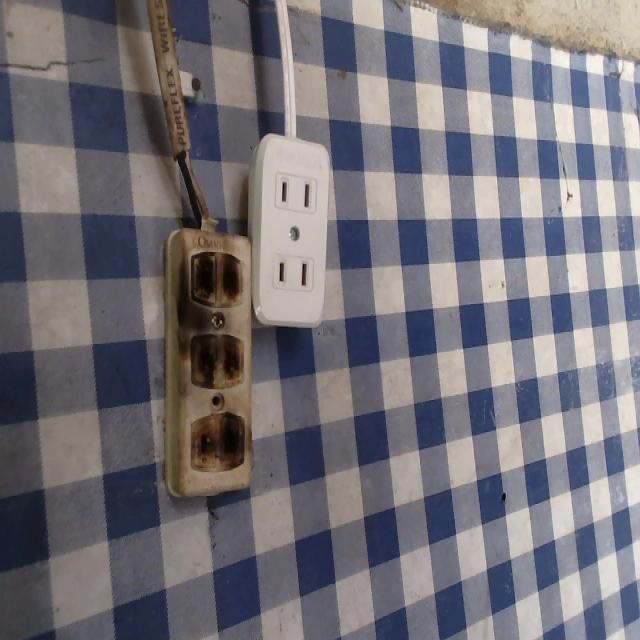-: (183, 245, 245, 312), (186, 408, 247, 471), (185, 330, 242, 394)
